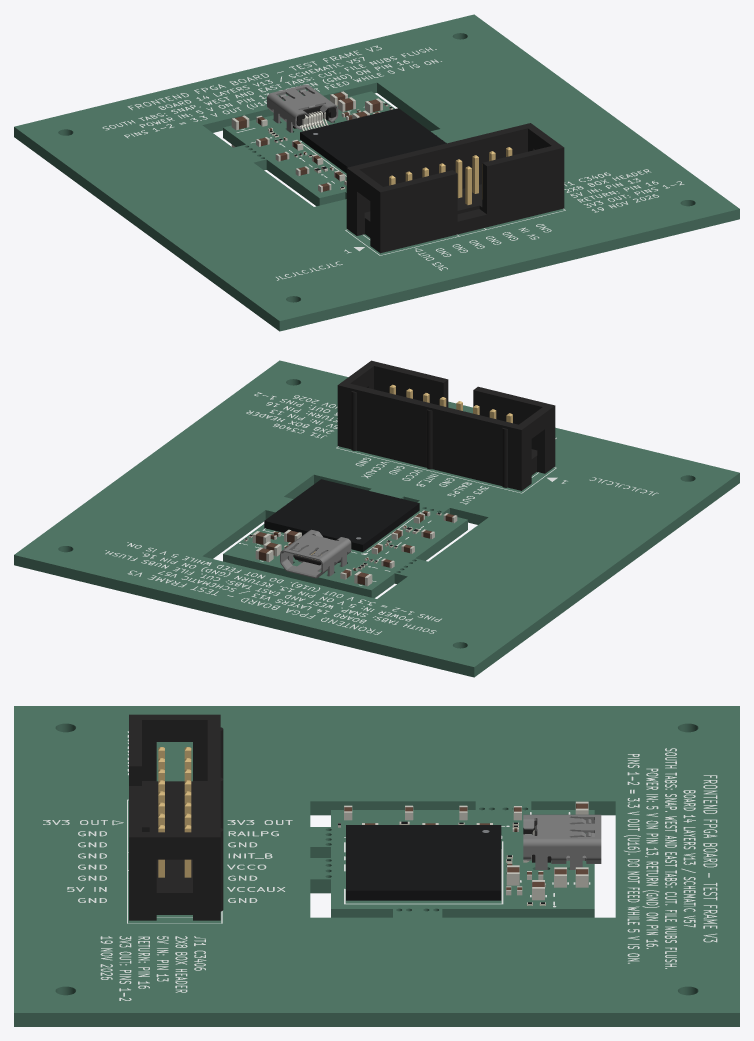
Rendered from frontend-test-frame-v3.glb.
The picture shows the model from 3 angles, top to bottom: view 1: azimuth 30°, elevation 25°; view 2: azimuth 150°, elevation 25°; view 3: azimuth 270°, elevation 25°; orthographic projection. The views are drawn at different scales.
Visible parts, largest first — view 1: =>[0:1:1:367], =>[0:1:1:9], CSG325_Body, =>[0:1:1:365], =>[0:1:1:345]; view 2: =>[0:1:1:367], =>[0:1:1:9], CSG325_Body, =>[0:1:1:365], =>[0:1:1:345]; view 3: =>[0:1:1:367], =>[0:1:1:9], CSG325_Body, =>[0:1:1:365], =>[0:1:1:345].
Part boxes in pixels (x1,y1,x2,y2): =>[0:1:1:367]: [14, 14, 739, 331]; =>[0:1:1:9]: [346, 123, 564, 253]; CSG325_Body: [300, 108, 446, 173]; =>[0:1:1:365]: [102, 45, 684, 280]; =>[0:1:1:345]: [267, 84, 338, 132]; =>[0:1:1:367]: [14, 360, 739, 677]; =>[0:1:1:9]: [337, 360, 555, 490]; CSG325_Body: [264, 479, 419, 551]; =>[0:1:1:365]: [105, 392, 658, 634]; =>[0:1:1:345]: [280, 529, 351, 578]; =>[0:1:1:367]: [14, 706, 739, 1026]; =>[0:1:1:9]: [129, 714, 223, 920]; CSG325_Body: [346, 825, 501, 900]; =>[0:1:1:365]: [43, 731, 717, 1000]; =>[0:1:1:345]: [523, 814, 601, 869].
Size of the model in its own units: 0.07 by 0.0121 by 0.07.
